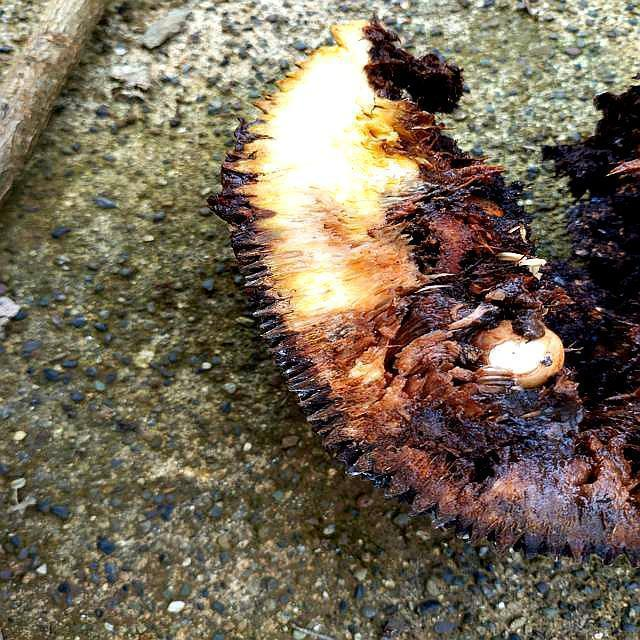Biodegradable: (222, 23, 640, 548)
